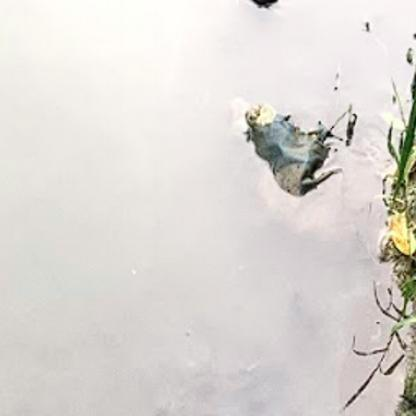Trash: (236, 95, 356, 199)
